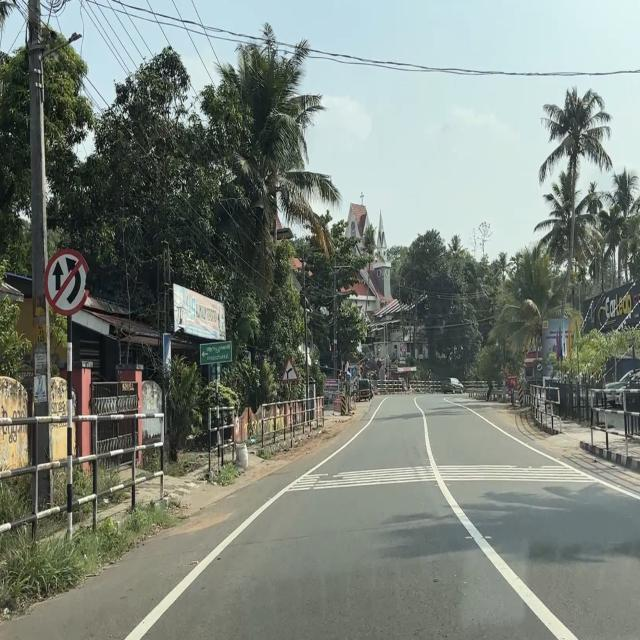GENERAL: (198, 338, 234, 366)
OVERTAKING_PROHIBITED: (44, 246, 92, 316)
RIGHT_TURN_AHEAD: (281, 358, 300, 384)
